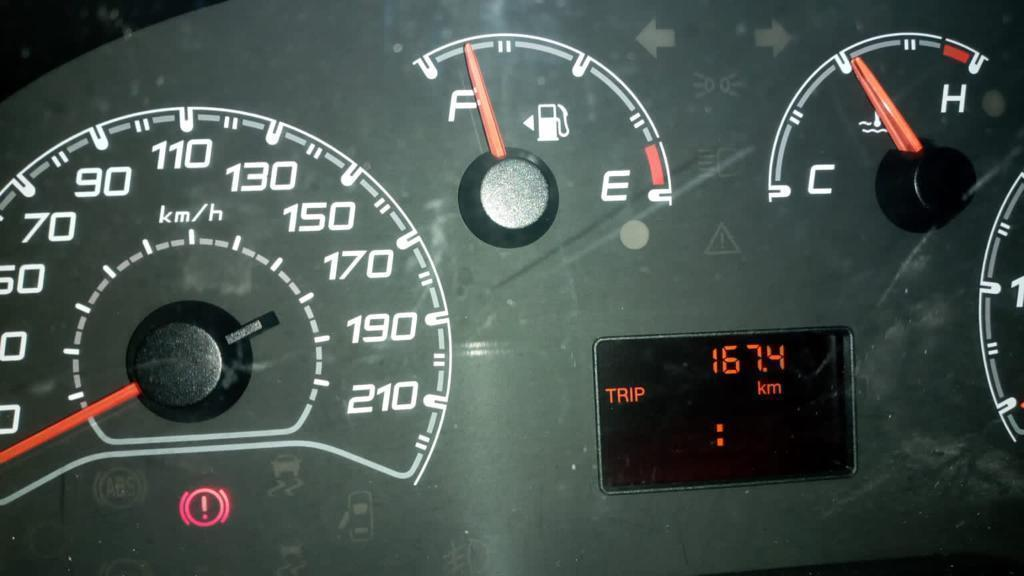,: (762, 367, 767, 372)
1: (712, 347, 717, 374)
4: (766, 344, 785, 370)
6: (721, 345, 740, 374)
7: (746, 344, 761, 372)
X: (603, 387, 617, 404), (715, 423, 724, 447), (767, 383, 782, 395), (617, 387, 628, 403), (634, 386, 644, 401), (757, 380, 766, 395), (629, 387, 633, 402)
odometer: (591, 323, 859, 497)
